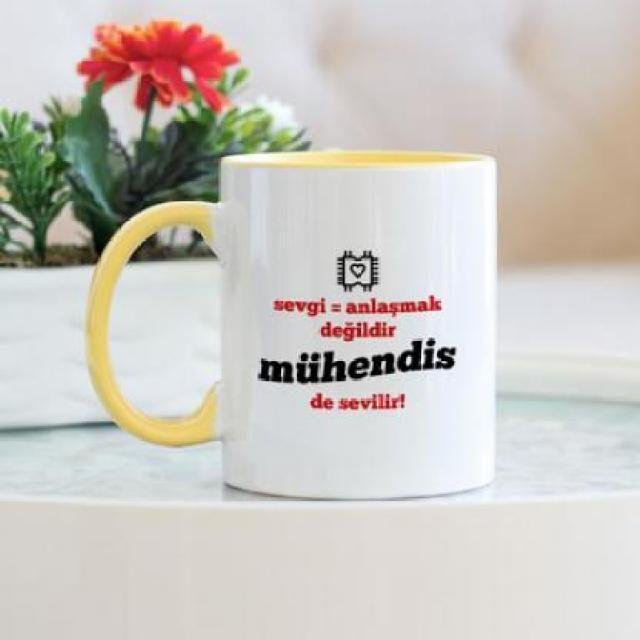taza: (72, 140, 518, 500)
